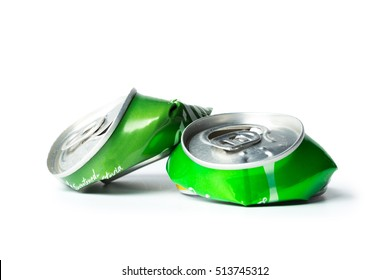can: (44, 85, 345, 209)
